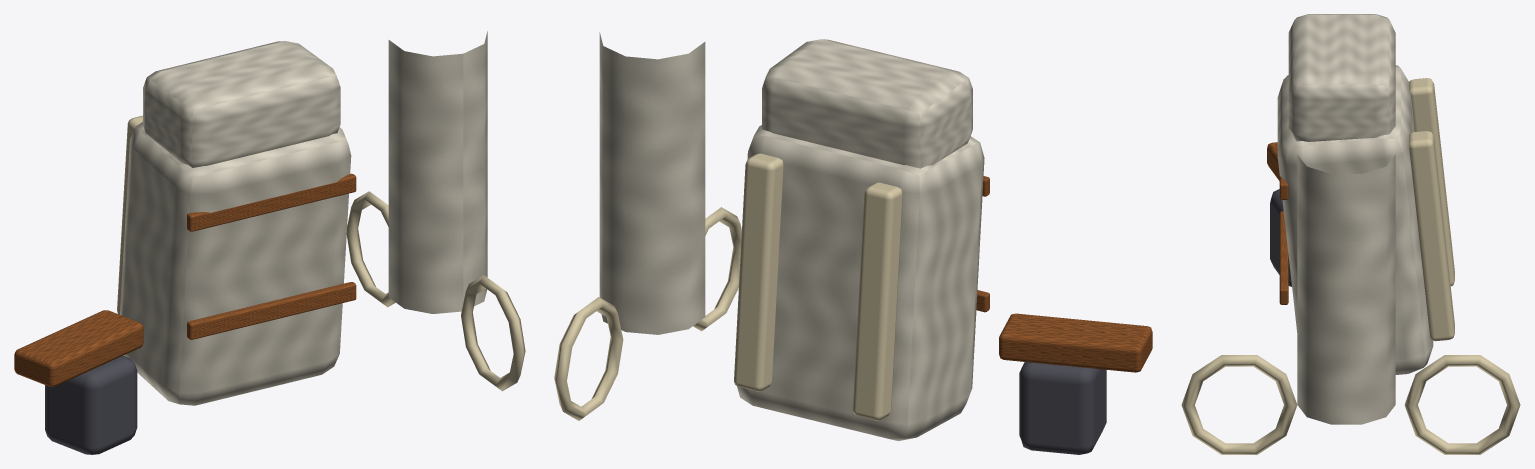
Rendered from jungle-temple-and-stone-city-expedition-pack-and-bedro-3ebd4a7b__36159.glb.
3 views of the same model, side by side, from view 1: azimuth 30°, elevation 25°; view 2: azimuth 150°, elevation 25°; view 3: azimuth 270°, elevation 25° (orthographic). The views are drawn at different scales.
Parts seen in each view (by area): view 1: expedition-pack-and-bedroll; view 2: expedition-pack-and-bedroll; view 3: expedition-pack-and-bedroll.
Part boxes in pixels (x1,y1,x2,y2): expedition-pack-and-bedroll: [14, 31, 525, 454]; expedition-pack-and-bedroll: [554, 32, 1152, 454]; expedition-pack-and-bedroll: [1181, 14, 1520, 454].
Size of the model in its own units: 1.21 by 0.7837 by 0.76.
4 materials, 2 textured.
